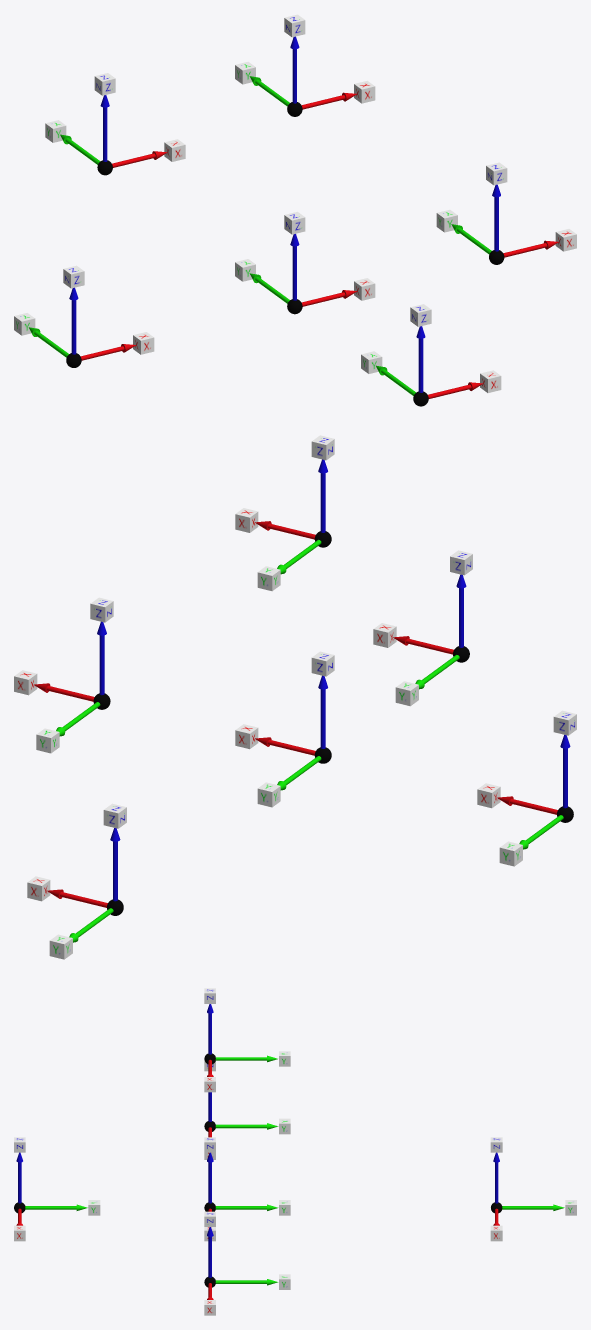
The model's file is multipleDebugAxis.glb.
3 views of the same model, one above another, from view 1: azimuth 30°, elevation 25°; view 2: azimuth 150°, elevation 25°; view 3: azimuth 270°, elevation 25° (orthographic). The views are drawn at different scales.
Bounding box in the file's own units: 75.38 × 41.94 × 96.22.
7 materials, 3 textured.
